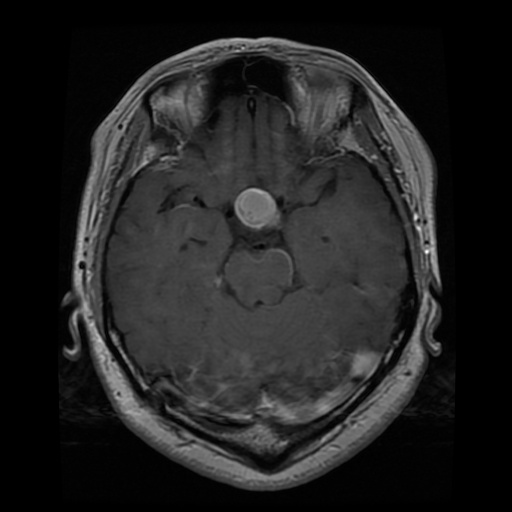pituitary: (235, 188, 277, 228)
